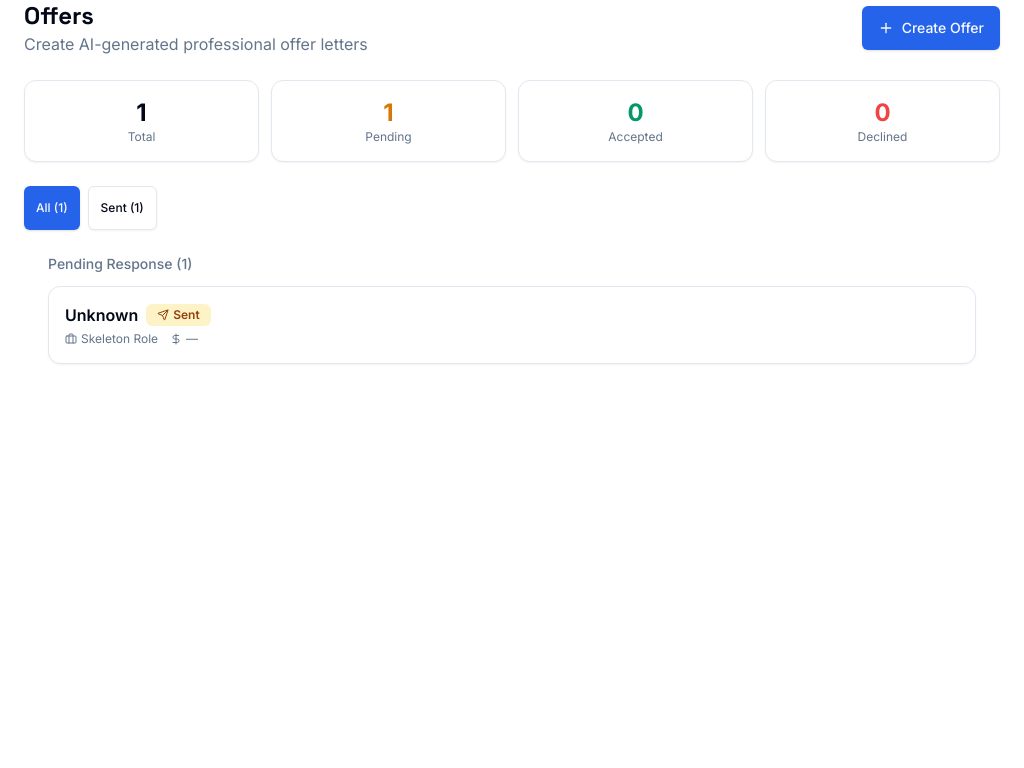
Test: RecruiterOffersPage — skeleton (NULL-salary) offers (#1301) › shows — not $0 in the detail dialog for a NULL-salary offer
Click the text "Skeleton Role" at (112, 339), box [65, 331, 158, 347]
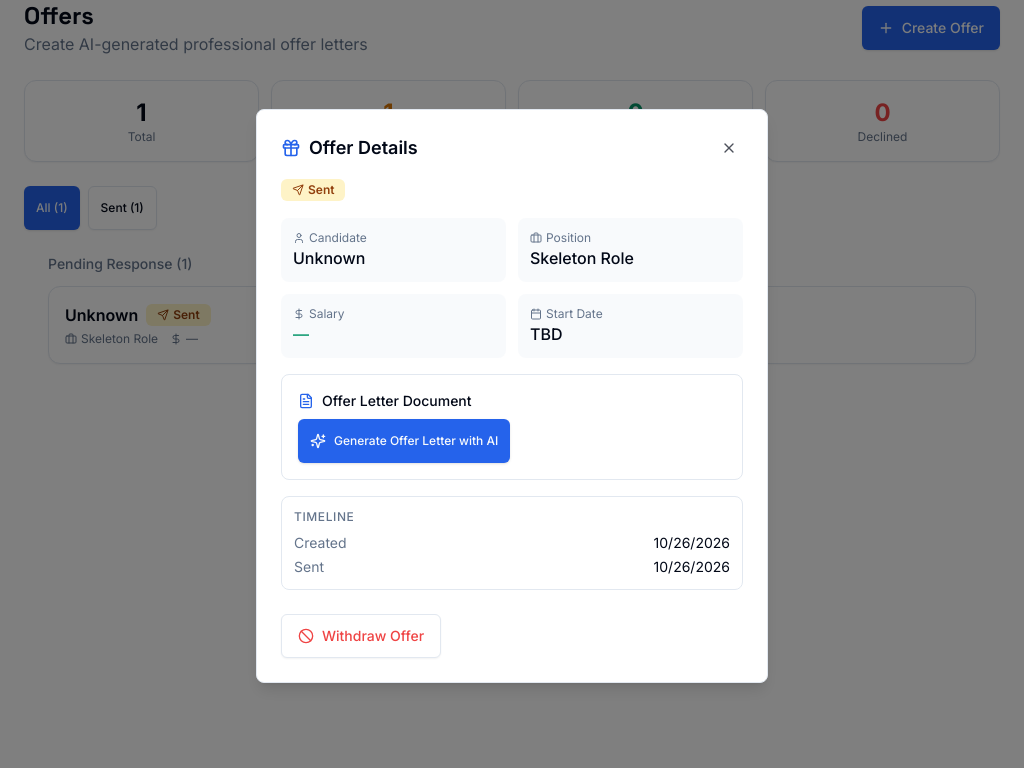
expect the text "—" is shown: met, box [170, 331, 198, 347]
expect the heading "Offer Details" is shown: met, box [281, 137, 418, 158]
